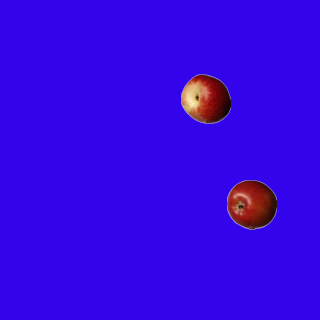Apple Braeburn: (226, 179, 276, 229)
Nectarine: (180, 73, 230, 123)
